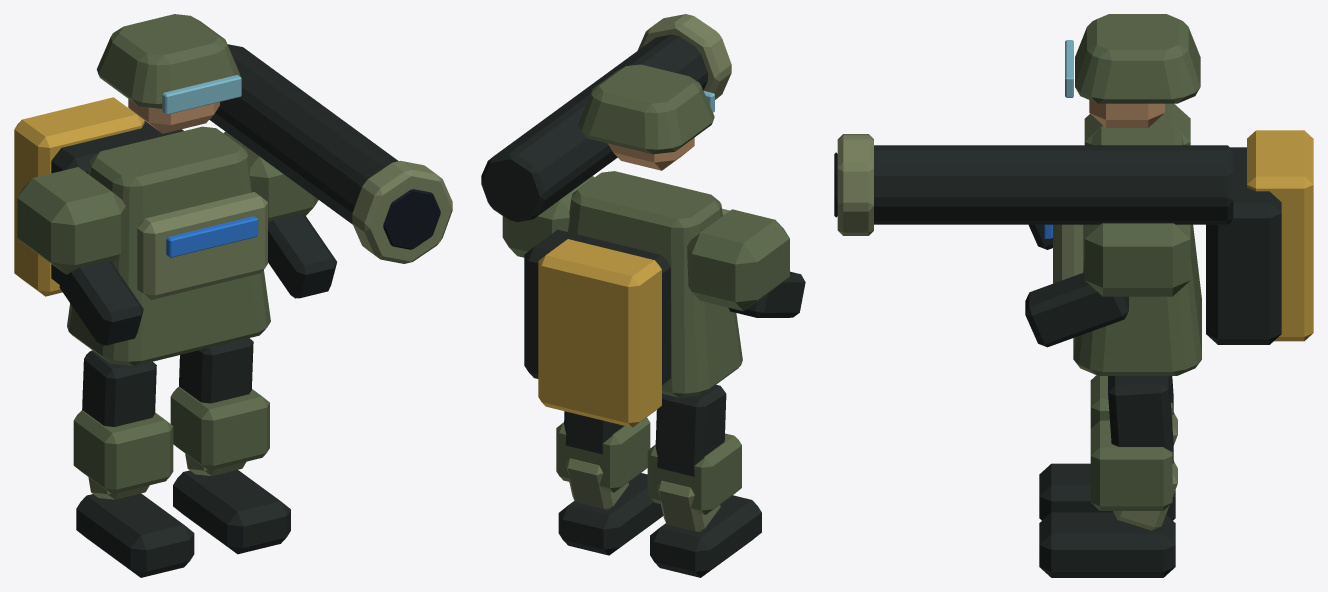
File: h_rocket.glb
3 views of the same model, side by side, from view 1: azimuth 30°, elevation 25°; view 2: azimuth 150°, elevation 25°; view 3: azimuth 270°, elevation 25° (orthographic). The views are drawn at different scales.
Parts seen in each view (by area): view 1: Body armor, Leg armor, Leg armor.001; view 2: Body armor, Leg armor, Leg armor.001; view 3: Body armor, Leg armor.001, Leg armor.
Part boxes in pixels (x1,y1,x2,y2): Body armor: [14, 14, 452, 365]; Leg armor: [73, 350, 194, 577]; Leg armor.001: [170, 338, 290, 554]; Body armor: [481, 14, 805, 427]; Leg armor: [647, 384, 761, 577]; Leg armor.001: [556, 411, 663, 555]; Body armor: [834, 14, 1313, 375]; Leg armor.001: [1039, 376, 1177, 577]; Leg armor: [1039, 375, 1177, 520].
Size of the model in its own units: 1.08 by 1.86 by 1.58.
